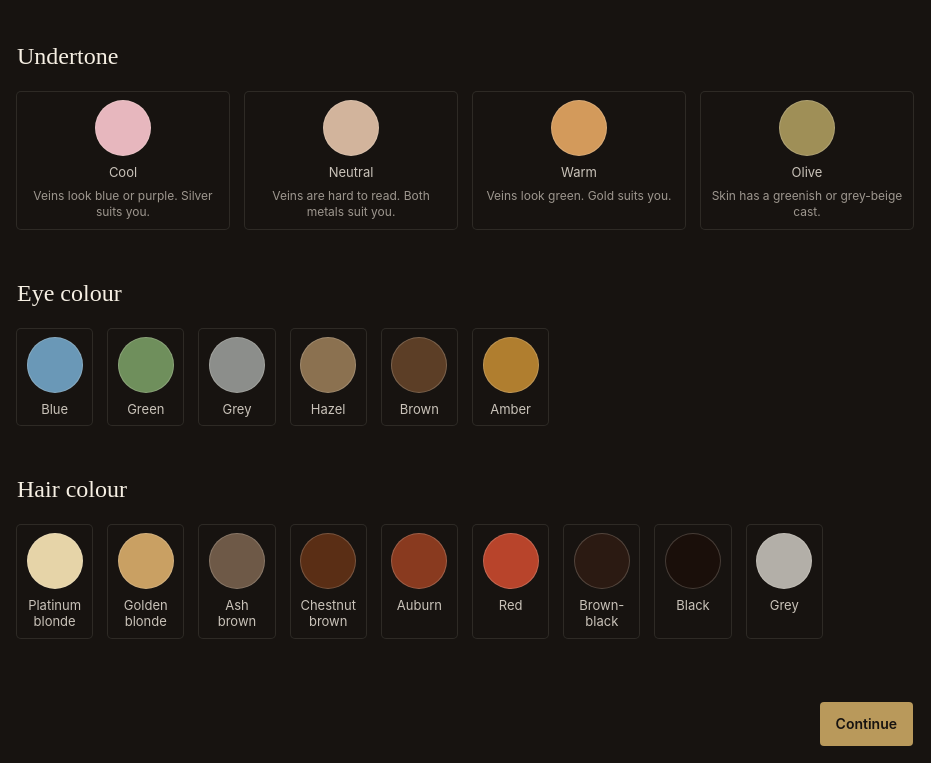
Test case: onboarding draft hydration › requires every swatch with friendly, described errors
The width and height of the screenshot is (931, 763).
(page scrolled)
Click the button "Continue".
click(866, 724)  # box [820, 702, 913, 746]
(page scrolled)
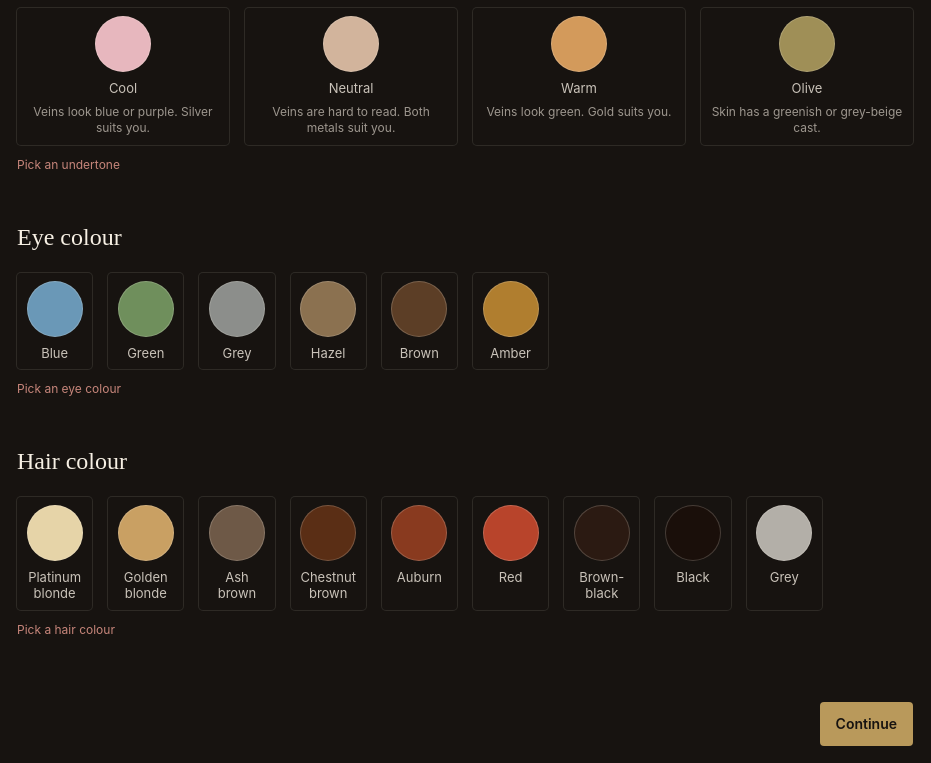
Expected: the message "Pick an undertone" is shown, [17, 157, 120, 172]
Expected: the message "Pick an eye colour" is shown, [17, 381, 121, 396]
Expected: the message "Pick a hair colour" is shown, [17, 622, 115, 636]
